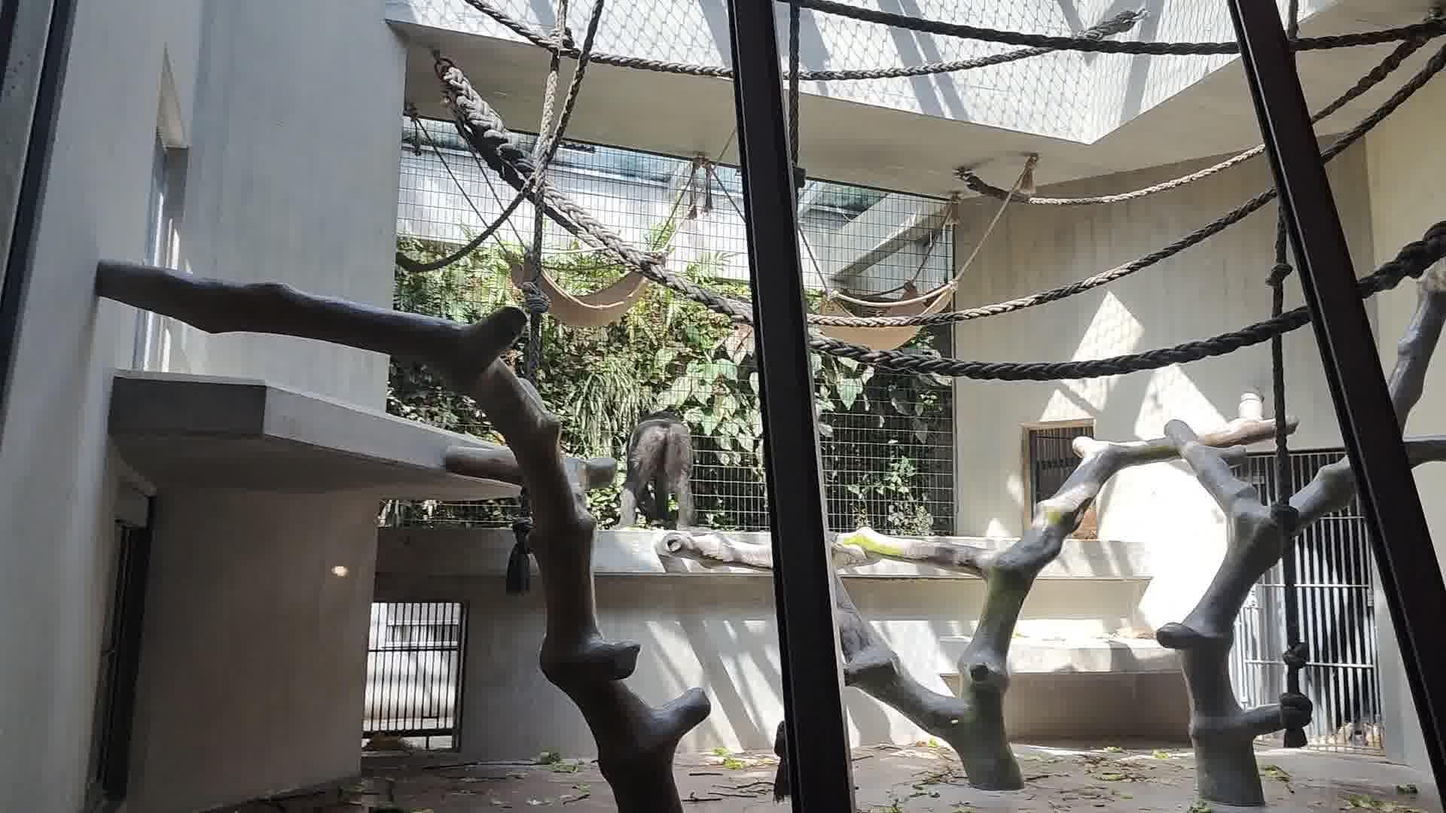boar: (612, 411, 694, 530)
